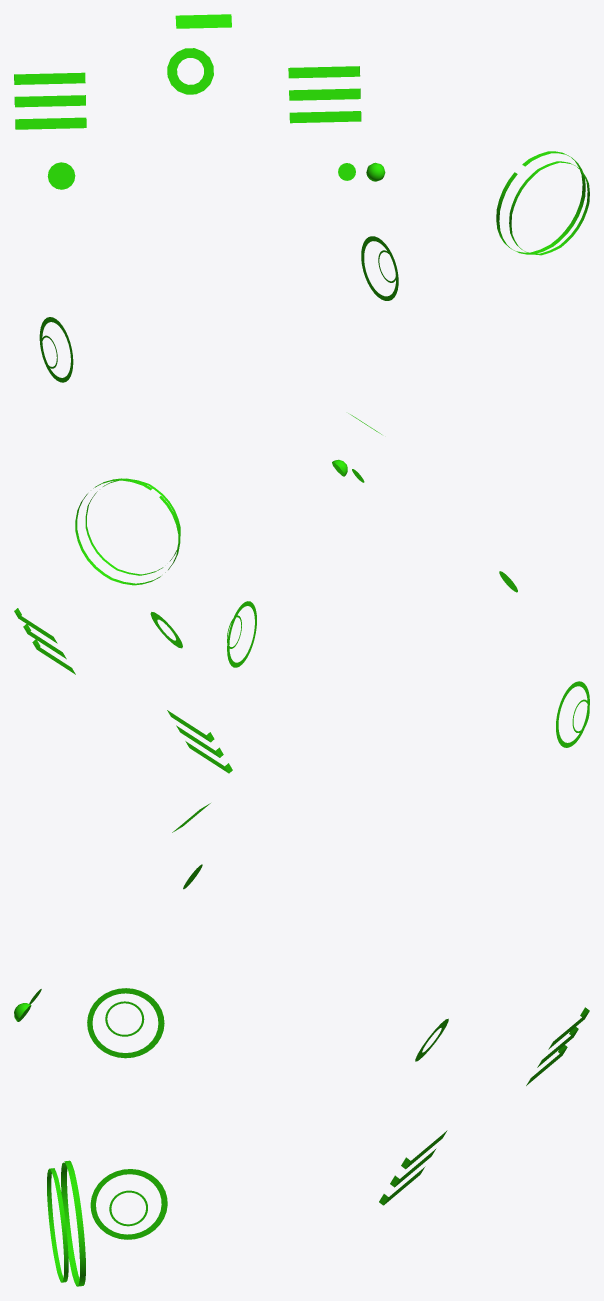
The model's file is DreadNoughtLights.fbx.
3 renders of one model, top to bottom at view 1: azimuth 30°, elevation 25°; view 2: azimuth 150°, elevation 25°; view 3: azimuth 270°, elevation 25°, orthographic. The views are drawn at different scales.
Visible parts, largest first — view 1: Lights; view 2: Lights; view 3: Lights.
Part boxes in pixels (x1,y1,x2,y2): Lights: [14, 14, 589, 382]; Lights: [14, 413, 589, 773]; Lights: [14, 803, 589, 1286].
Bounding box in the file's own units: 452 × 250 × 379.
